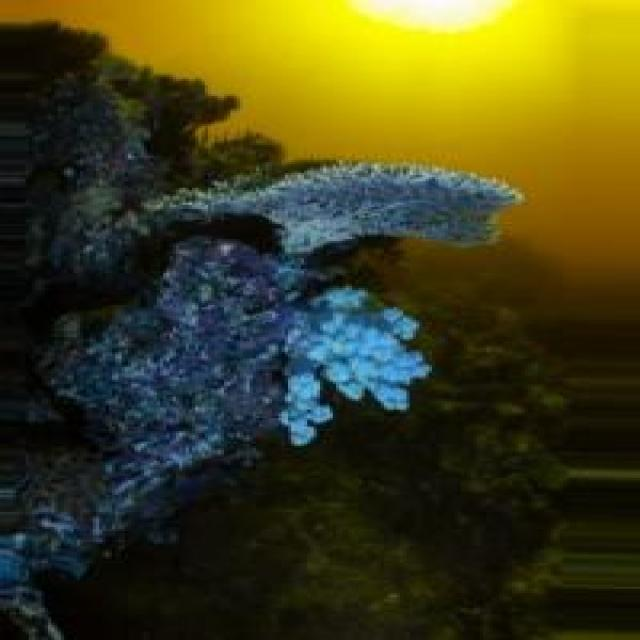Healthy: (30, 56, 507, 312), (36, 242, 417, 545)
